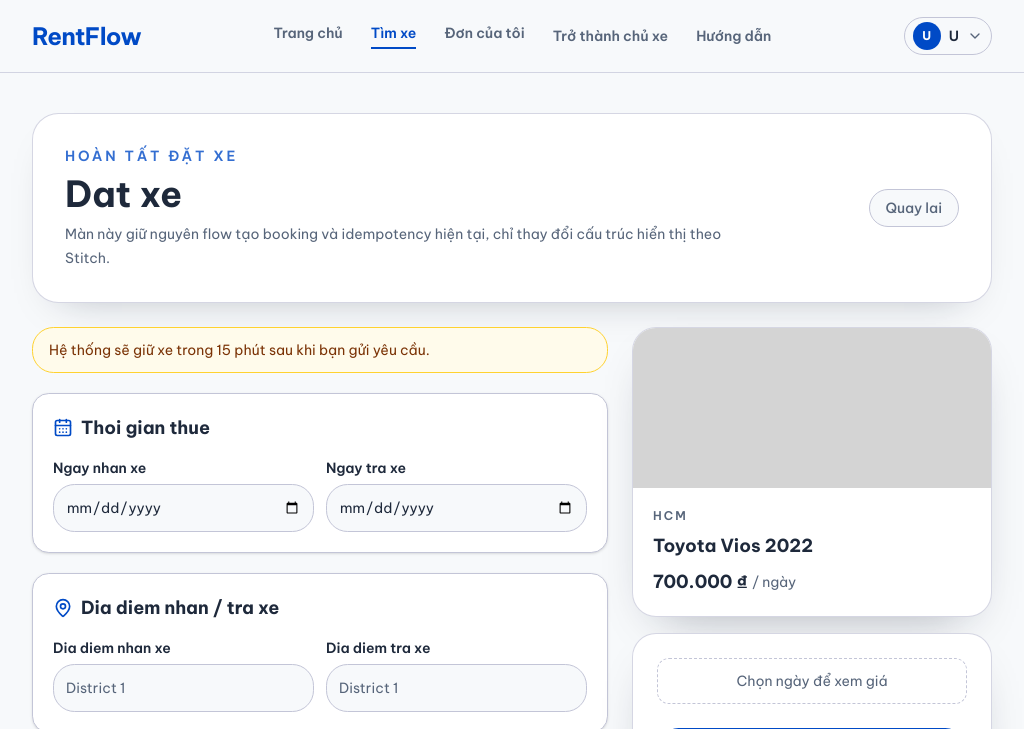
Test: BookingCreatePageView › blocks submit with validation when return ≤ pickup
Expected: the heading "Dat xe" is shown, [65,171,182,217]
Type "2026-06-05" into the date field below "Ngay nhan xe".
click(184, 508); type("2026-06-05")  # box [53,484,314,532]
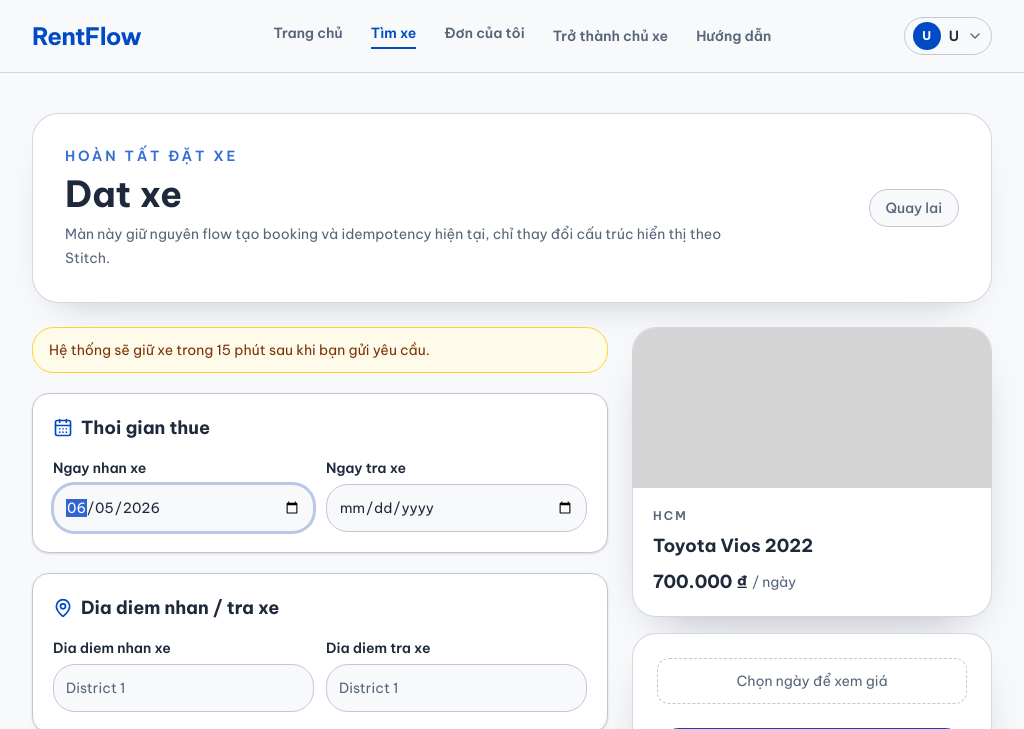
Type "2026-06-05" into the date field below "Ngay tra xe".
click(456, 508); type("2026-06-05")  # box [326,484,587,532]
(page scrolled)
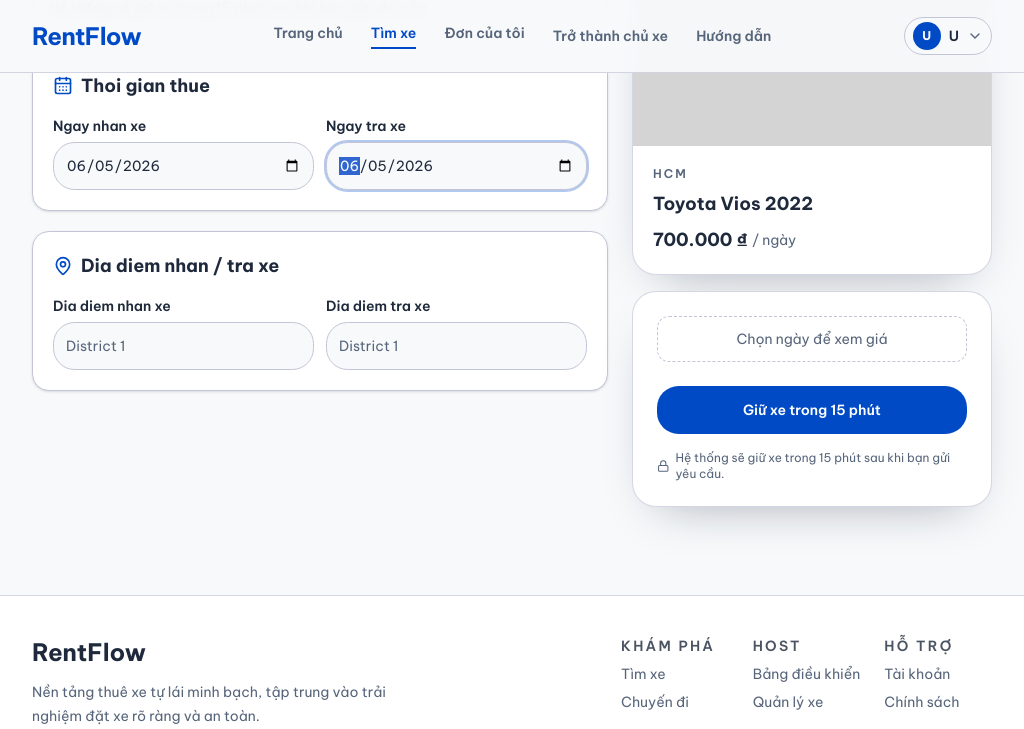
Click the button "Giữ xe trong 15 phút".
click(812, 410)  # box [657,386,967,434]
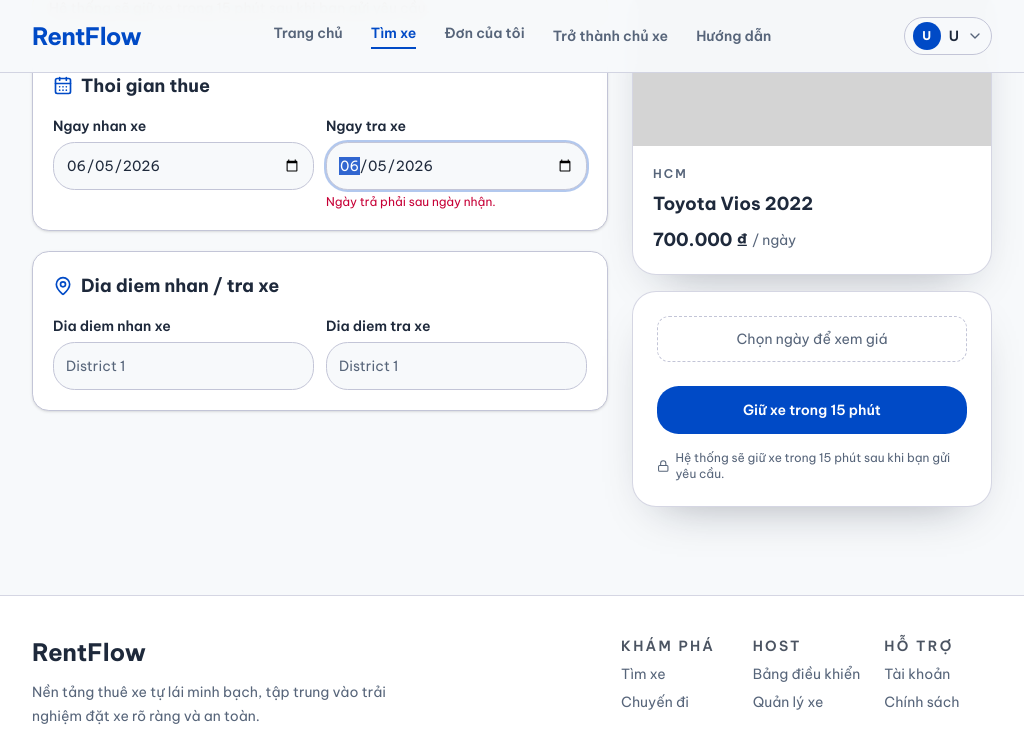
Result: the text "Ngày trả phải sau ngày nhận." is shown at [326,194,496,209]
